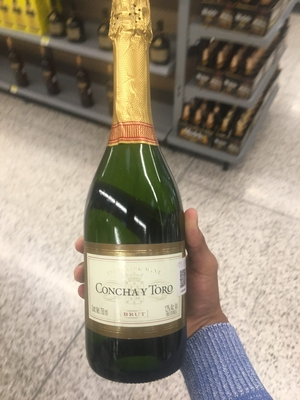brut: (72, 2, 210, 372)
